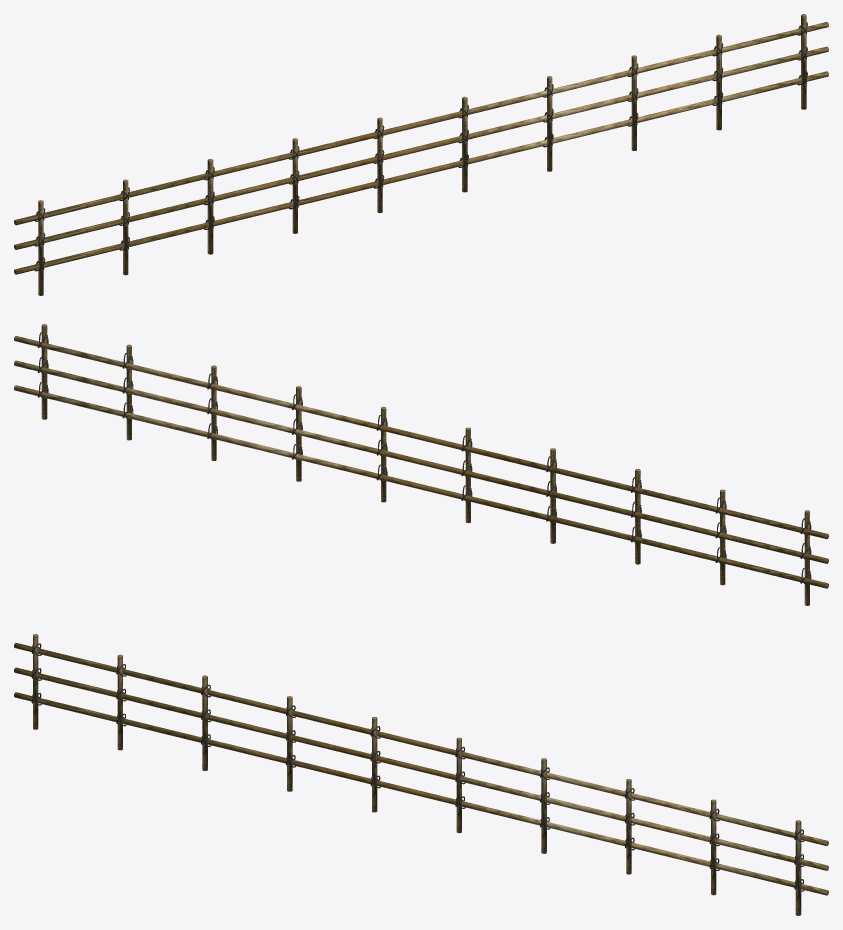
The model's file is fence.fbx.
3 renders of one model, top to bottom at view 1: azimuth 30°, elevation 25°; view 2: azimuth 150°, elevation 25°; view 3: azimuth 330°, elevation 25°, orthographic.
Parts seen in each view (by area): view 1: fence; view 2: fence; view 3: fence.
Part boxes in pixels (bbox=[...]): fence: bbox=[14, 14, 828, 295]; fence: bbox=[14, 324, 828, 605]; fence: bbox=[14, 634, 828, 915].
Bounding box in the file's own units: 997 × 110 × 15.69.
2 materials, 1 textured.
